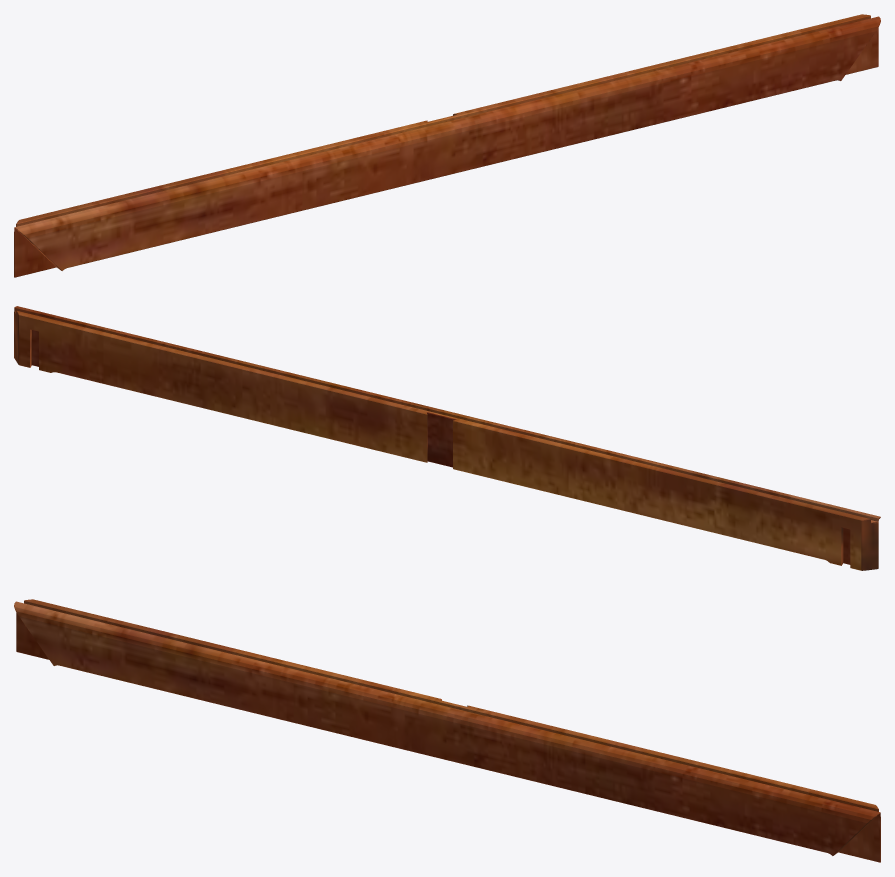
File: baxianzhuo_J_yaban_01.FBX
3 renders of one model, top to bottom at view 1: azimuth 30°, elevation 25°; view 2: azimuth 150°, elevation 25°; view 3: azimuth 330°, elevation 25°, orthographic.
Parts seen in each view (by area): view 1: baxianzhuo_J_yaban_01; view 2: baxianzhuo_J_yaban_01; view 3: baxianzhuo_J_yaban_01.
Boxes of the visible parts, x1,y1,x2,y2 form: baxianzhuo_J_yaban_01: [14, 14, 880, 277]; baxianzhuo_J_yaban_01: [14, 306, 880, 570]; baxianzhuo_J_yaban_01: [14, 599, 880, 862].
Bounding box in the file's own units: 93.92 × 5.3 × 2.2.
